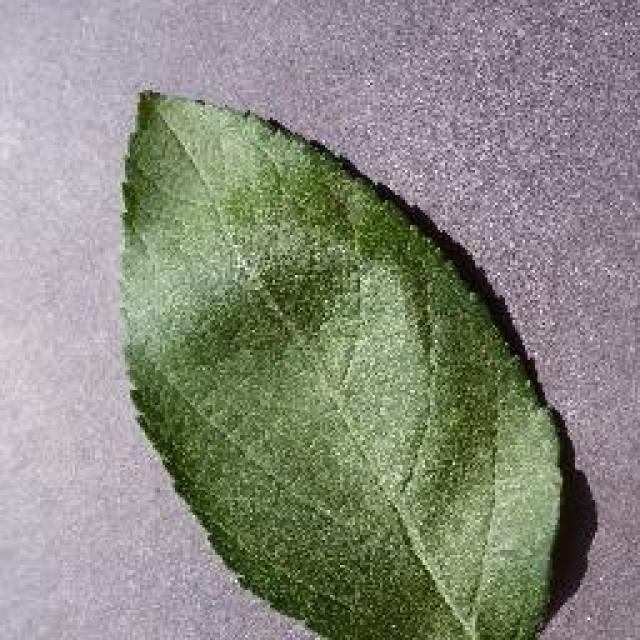apple healthy: (112, 85, 578, 637)
